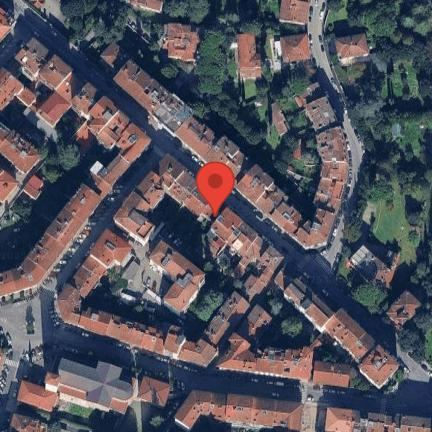area_open: (98, 245, 171, 319), (0, 292, 65, 363), (157, 201, 223, 267), (302, 238, 344, 300), (386, 362, 432, 414), (18, 0, 63, 41), (122, 407, 172, 432)
built: (43, 359, 138, 415), (325, 307, 378, 363), (115, 58, 169, 112), (204, 134, 256, 187), (149, 239, 207, 286), (285, 275, 335, 329), (238, 166, 291, 216), (0, 121, 45, 176), (172, 389, 229, 431), (45, 198, 91, 249), (176, 112, 222, 160), (90, 227, 137, 271), (351, 243, 395, 288), (360, 342, 401, 390), (150, 91, 194, 133), (0, 73, 44, 113), (16, 34, 55, 79), (215, 331, 256, 373), (294, 207, 337, 247), (71, 254, 109, 298), (114, 201, 156, 240), (286, 339, 322, 382), (162, 274, 201, 313), (188, 186, 225, 226), (387, 289, 424, 329), (176, 338, 220, 371), (269, 197, 306, 236), (238, 303, 274, 343), (219, 287, 253, 329), (116, 124, 152, 163), (74, 174, 109, 214), (57, 281, 86, 329), (18, 380, 60, 413), (31, 234, 67, 271), (305, 97, 341, 133), (38, 91, 73, 128), (316, 125, 350, 163), (40, 55, 75, 91), (137, 169, 170, 207), (242, 236, 272, 277), (210, 209, 245, 244), (156, 153, 188, 191), (255, 247, 285, 287), (89, 98, 122, 134), (170, 170, 202, 207), (167, 24, 198, 62), (101, 112, 134, 146), (313, 360, 351, 389), (74, 85, 106, 119), (89, 161, 120, 195), (79, 305, 113, 336), (59, 73, 91, 105), (0, 265, 32, 297), (19, 253, 49, 287), (232, 223, 262, 257), (139, 375, 170, 407), (107, 315, 140, 345), (203, 313, 232, 347), (333, 35, 369, 62), (238, 35, 260, 79), (279, 33, 311, 63), (274, 401, 304, 432), (274, 259, 303, 291), (126, 189, 156, 219), (134, 326, 164, 355), (326, 407, 360, 432), (102, 41, 129, 71), (229, 397, 256, 427), (8, 413, 50, 432), (359, 412, 398, 432), (0, 168, 19, 209), (297, 83, 325, 110), (254, 398, 279, 428), (163, 324, 185, 358), (106, 153, 132, 180), (257, 350, 285, 375), (316, 178, 346, 201), (23, 173, 48, 200), (281, 0, 308, 23), (242, 273, 263, 302), (0, 5, 16, 43), (400, 414, 432, 432), (271, 101, 287, 137), (315, 193, 340, 214), (322, 165, 347, 185), (132, 0, 164, 14), (0, 89, 12, 110)
vegetation_high: (334, 1, 432, 240), (137, 0, 282, 147), (269, 62, 317, 206), (397, 235, 432, 377), (334, 255, 397, 333), (62, 0, 133, 62), (38, 131, 96, 205), (260, 288, 315, 349)
vegetation_low: (350, 182, 418, 278), (0, 206, 44, 270), (55, 402, 123, 432), (322, 0, 362, 37), (260, 126, 281, 167)
